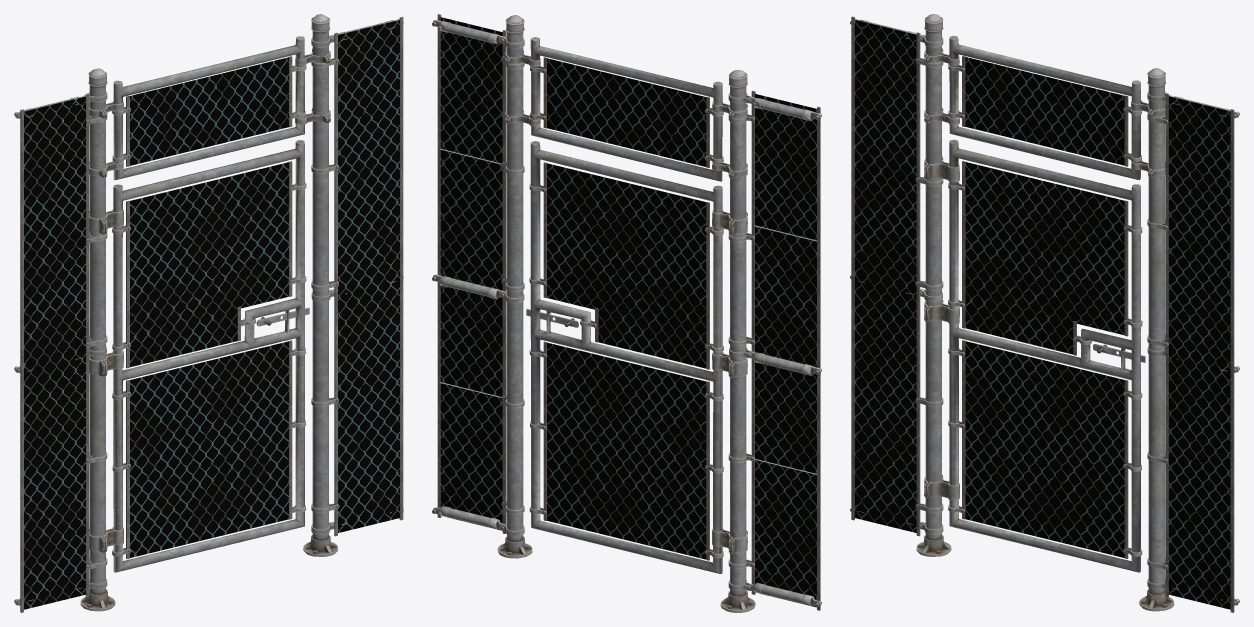
The model's file is fence-gate.glb.
The picture shows the model from 3 angles, left to right: view 1: azimuth 30°, elevation 25°; view 2: azimuth 150°, elevation 25°; view 3: azimuth 330°, elevation 25°; orthographic projection.
Visible parts, largest first — view 1: modular_chainlink_fence_door_frame, modular_chainlink_fence_door_gate; view 2: modular_chainlink_fence_door_frame, modular_chainlink_fence_door_gate; view 3: modular_chainlink_fence_door_frame, modular_chainlink_fence_door_gate.
Part boxes in pixels (x1,y1,x2,y2): modular_chainlink_fence_door_frame: (14, 14, 403, 612); modular_chainlink_fence_door_gate: (112, 140, 306, 572); modular_chainlink_fence_door_frame: (432, 14, 821, 612); modular_chainlink_fence_door_gate: (529, 141, 723, 573); modular_chainlink_fence_door_frame: (850, 14, 1239, 612); modular_chainlink_fence_door_gate: (948, 139, 1142, 572).
Bounding box in the file's own units: 1.91 × 2.52 × 0.1483.
2 materials, 2 textured.
